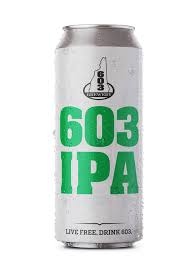can: (50, 21, 148, 254)
